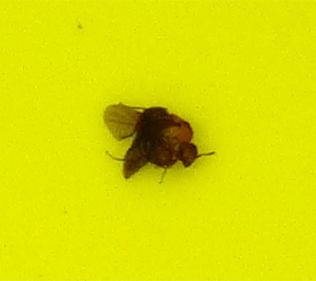Hymenoptera: (100, 100, 216, 181)
